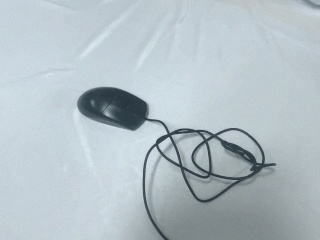mouse: (76, 87, 149, 131)
